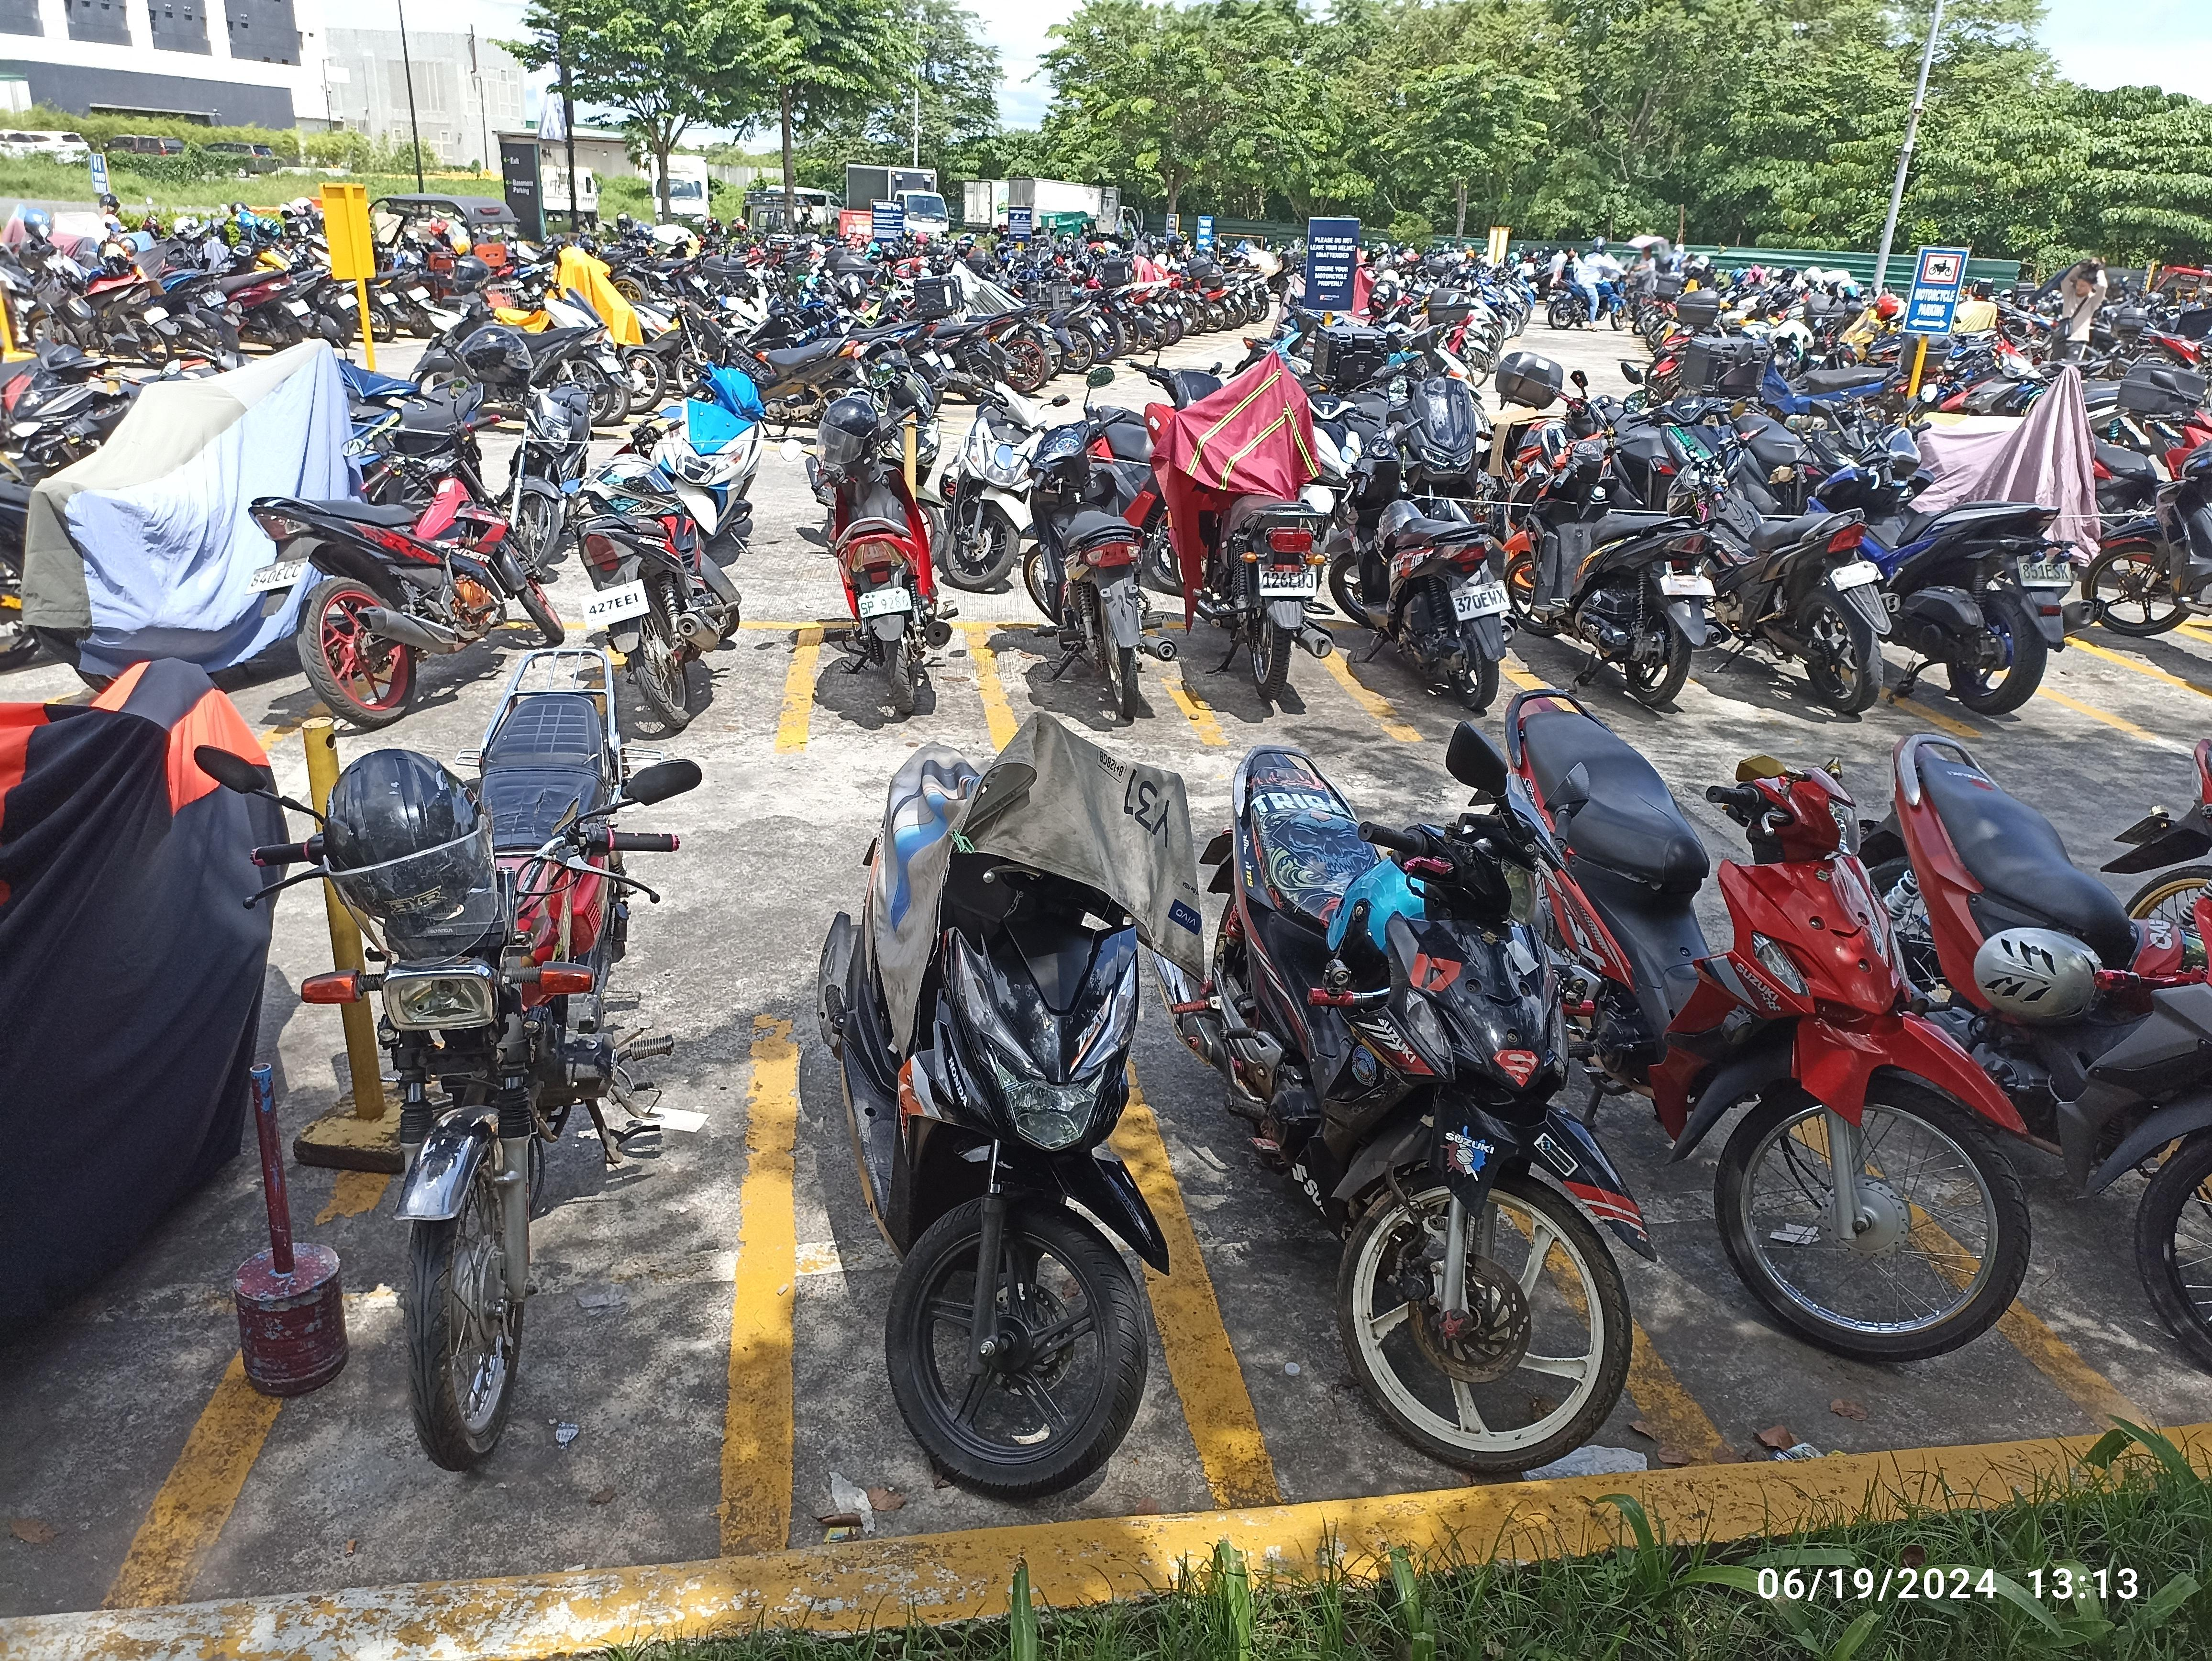occupied: (80, 1019, 802, 1661), (1076, 1017, 1797, 1589), (708, 1022, 1333, 1631), (1129, 614, 1423, 747), (959, 619, 1228, 745), (577, 618, 827, 748), (782, 618, 1026, 748)
